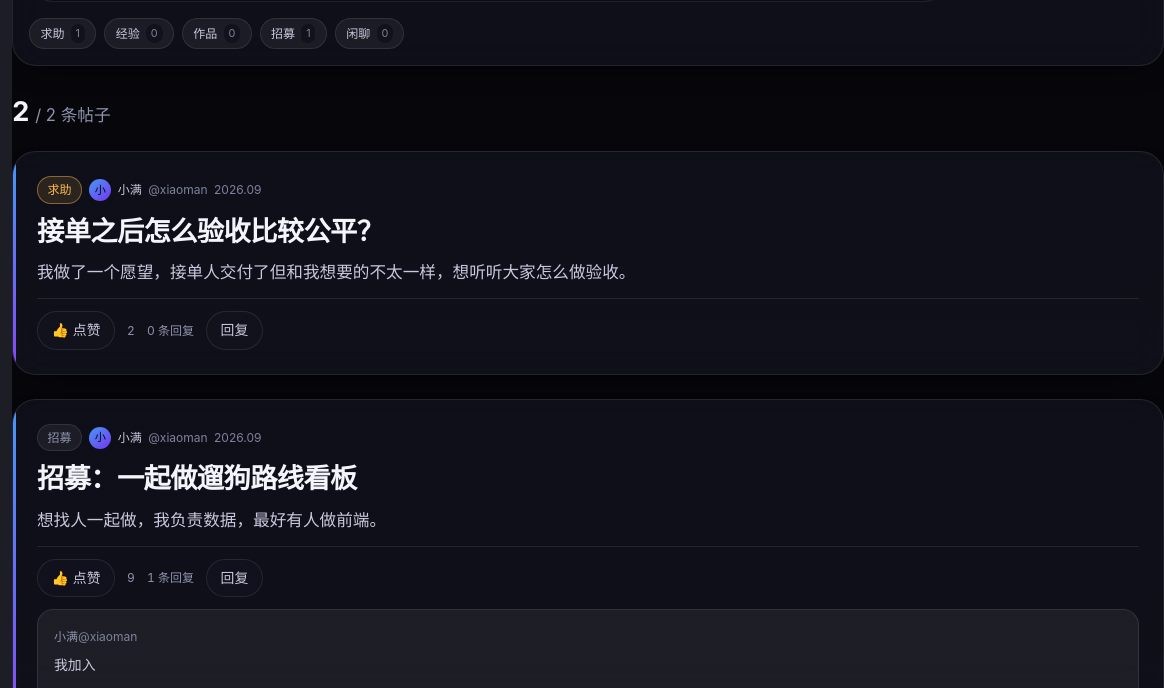
Test case: ForumPage › 可以点赞
The width and height of the screenshot is (1164, 688).
(page scrolled)
Click the button "👍 点赞" below "接单之后怎么验收比较公平？": [76, 331] box [37,311,115,350]
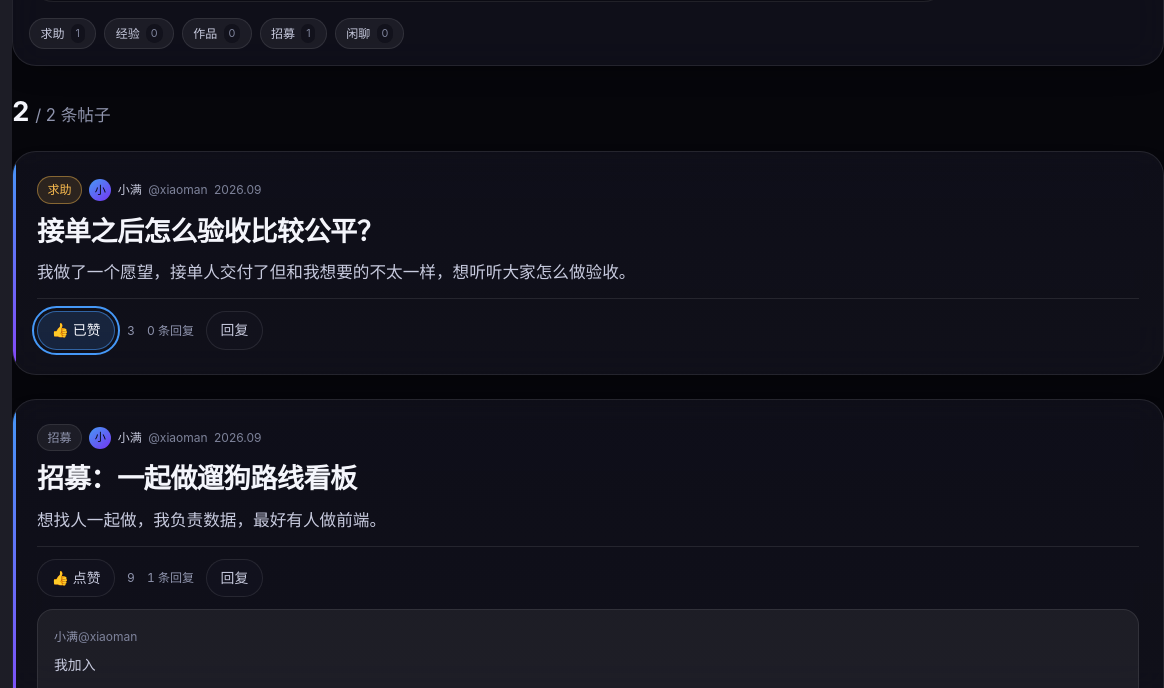
Result: the text with test id "post-likes-p-one" reads "3" at [127,323,135,338]
